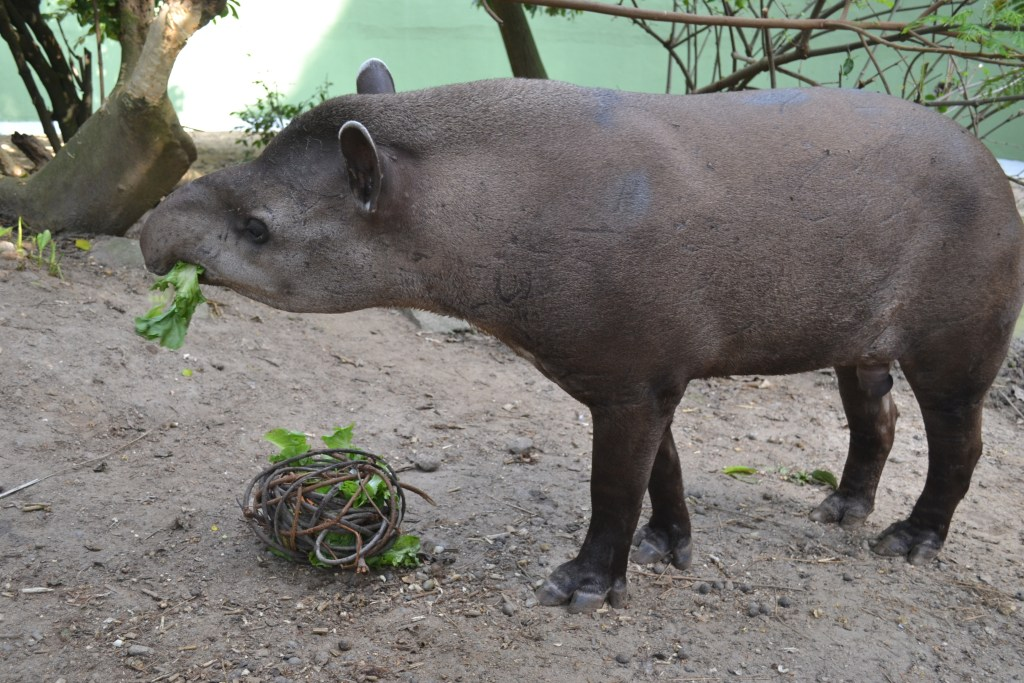Anta: (134, 46, 1003, 621)
